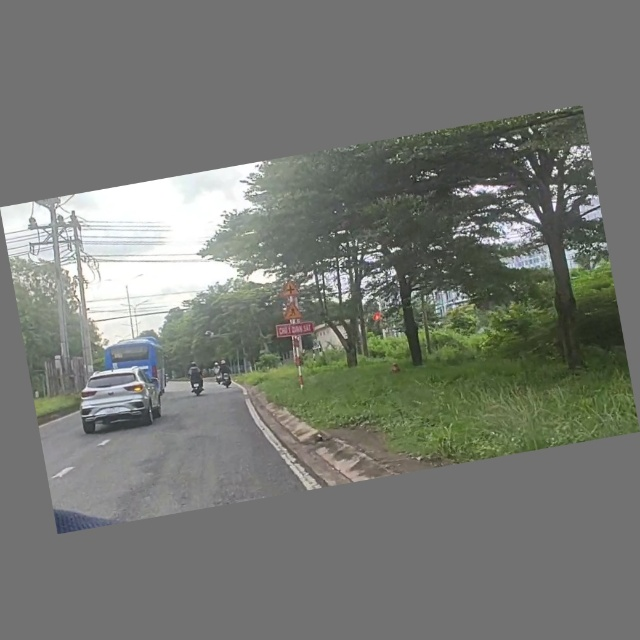W.205a: (278, 278, 303, 300)
W.224: (280, 302, 305, 322)
